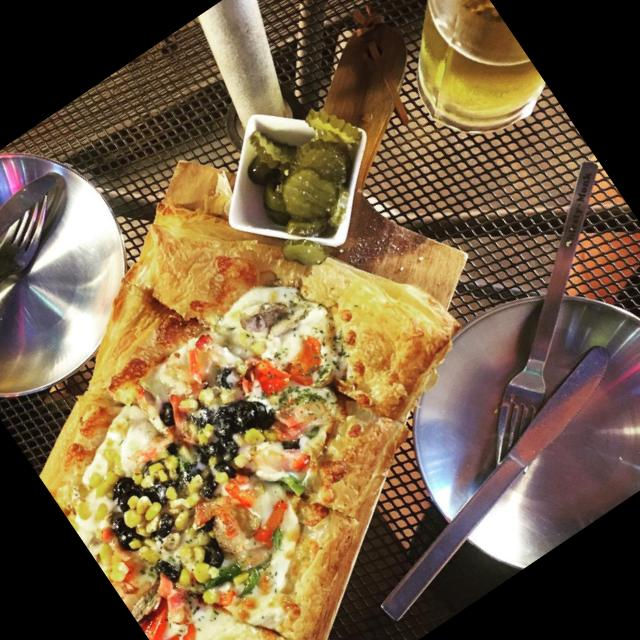black_olives: (205, 384, 277, 449), (200, 433, 243, 483), (100, 509, 144, 557), (107, 476, 142, 510), (150, 510, 181, 542), (155, 398, 185, 429), (198, 540, 228, 570), (152, 556, 180, 586), (173, 458, 200, 482), (142, 480, 167, 505), (209, 366, 233, 392), (200, 476, 223, 500), (163, 439, 181, 459)
peppers: (246, 349, 300, 404), (246, 495, 302, 548), (278, 334, 330, 386), (228, 550, 280, 597), (141, 608, 187, 640), (223, 472, 258, 511), (175, 344, 210, 378), (276, 468, 308, 500), (264, 528, 292, 554), (174, 622, 209, 640)
pizza: (40, 214, 458, 640)
